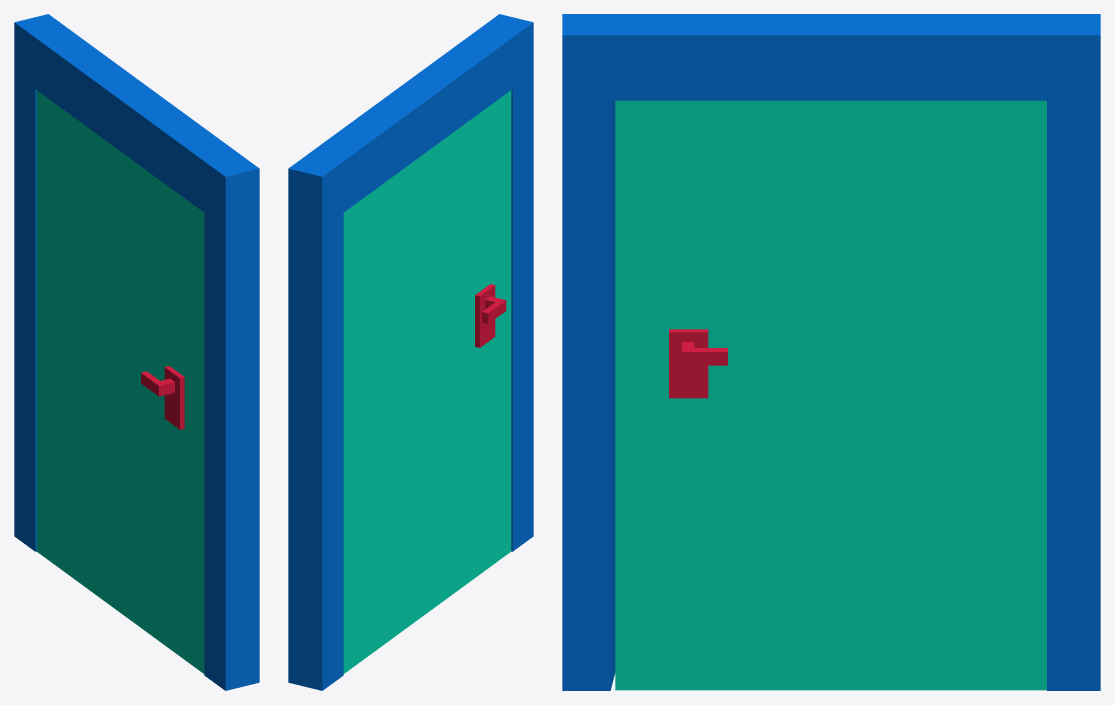
The model's file is Door.fbx.
The picture shows the model from 3 angles, left to right: view 1: azimuth 30°, elevation 25°; view 2: azimuth 150°, elevation 25°; view 3: azimuth 270°, elevation 25°; orthographic projection. The views are drawn at different scales.
Parts seen in each view (by area): view 1: Door, Frame, Handle Holder Thingy, Handle; view 2: Door, Frame, Handle Holder Thingy, Handle; view 3: Door, Frame, Handle Holder Thingy, Handle.
Boxes of the visible parts, x1,y1,x2,y2 form: Door: (36, 90, 204, 673); Frame: (14, 14, 259, 690); Handle Holder Thingy: (164, 366, 184, 429); Handle: (141, 371, 174, 396); Door: (343, 90, 511, 673); Frame: (288, 14, 533, 690); Handle Holder Thingy: (475, 284, 495, 347); Handle: (482, 296, 506, 323); Door: (615, 100, 1046, 690); Frame: (562, 14, 1100, 690); Handle Holder Thingy: (669, 329, 708, 398); Handle: (682, 342, 727, 365).
Size of the model in its own units: 32.66 by 219 by 163.
